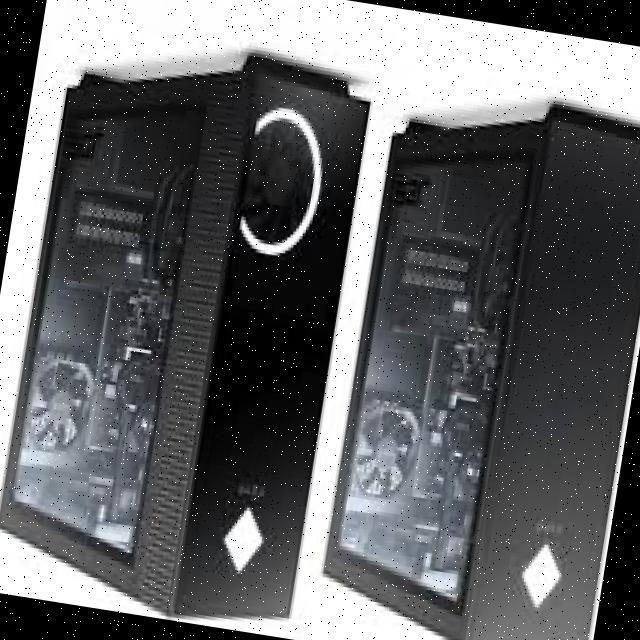Computer: (0, 27, 380, 639), (304, 72, 640, 640)
